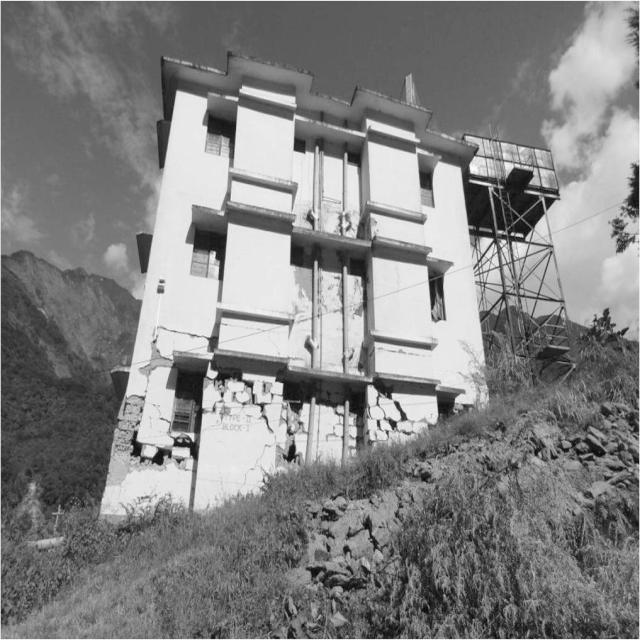Severely_Damaged: (101, 316, 477, 500)
